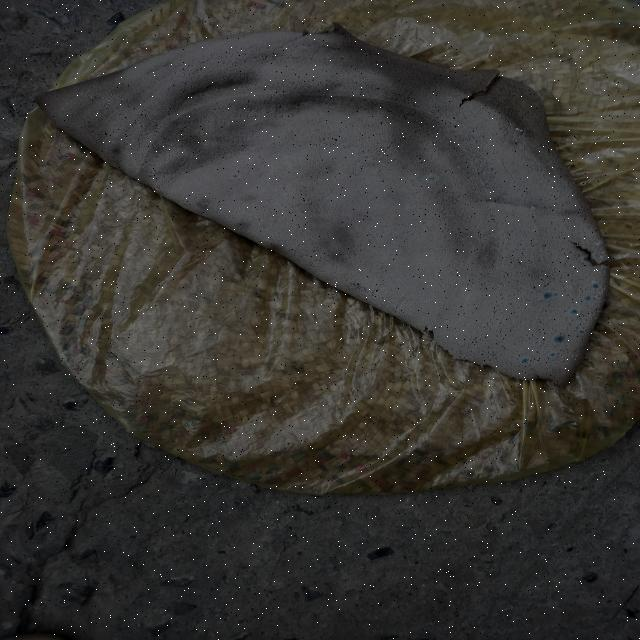injera_mold: (595, 290, 604, 306), (552, 334, 566, 344), (596, 250, 610, 260), (583, 254, 595, 264), (543, 291, 552, 299), (593, 240, 605, 246), (520, 357, 528, 364), (570, 308, 578, 315), (593, 282, 600, 290), (548, 352, 557, 358), (584, 296, 592, 302), (428, 175, 436, 181), (600, 266, 606, 273), (600, 279, 609, 283), (534, 340, 541, 345), (579, 330, 586, 335), (604, 284, 609, 290), (553, 293, 559, 297), (516, 128, 522, 132), (161, 51, 169, 54), (232, 174, 238, 178), (588, 330, 591, 336), (594, 316, 598, 320), (106, 98, 110, 102), (597, 310, 600, 315), (574, 358, 578, 361), (567, 286, 571, 289), (571, 355, 574, 358), (90, 96, 93, 99), (522, 133, 526, 135), (516, 139, 518, 142), (523, 130, 526, 132), (102, 97, 105, 99), (576, 354, 578, 356), (510, 123, 512, 125), (508, 128, 510, 130), (506, 136, 508, 138), (108, 103, 110, 105), (106, 106, 108, 108), (106, 92, 108, 94), (110, 94, 112, 95), (170, 51, 172, 52)
